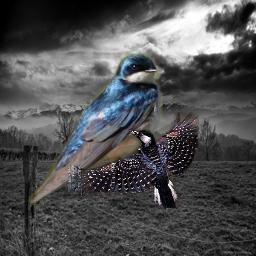Swallow: (29, 50, 164, 209)
Woodpecker: (68, 112, 199, 208)
